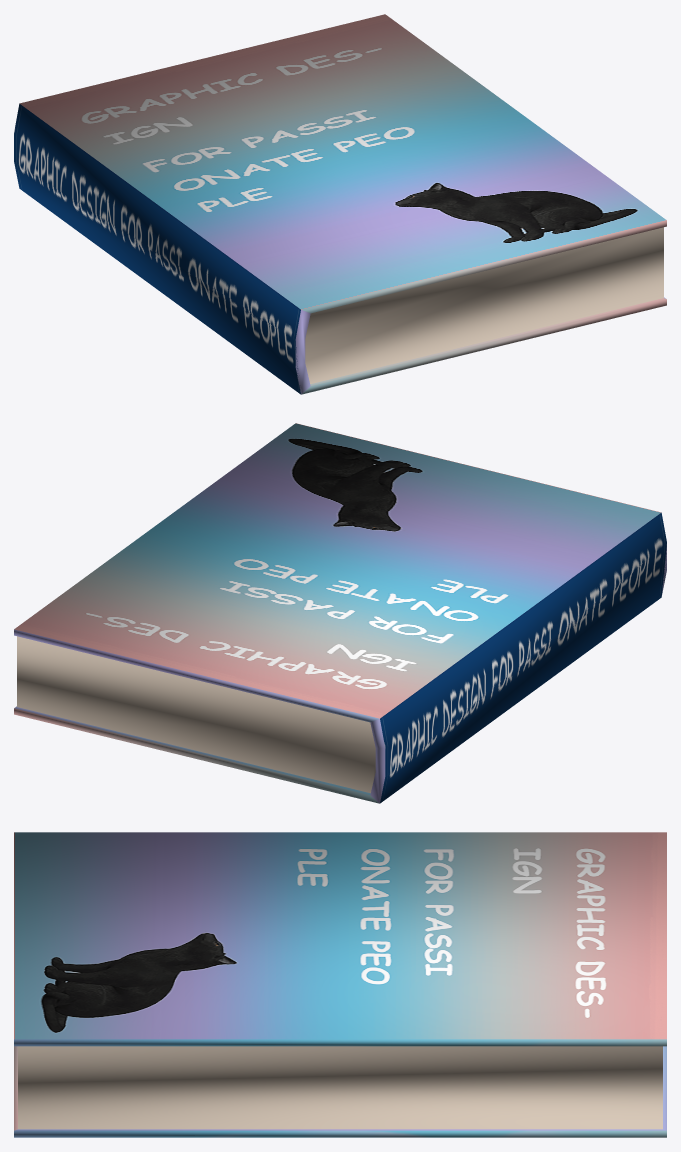
File: Book2cat.fbx
3 views of the same model, one above another, from view 1: azimuth 30°, elevation 25°; view 2: azimuth 150°, elevation 25°; view 3: azimuth 270°, elevation 25° (orthographic). The views are drawn at different scales.
Visible parts, largest first — view 1: Bookcat; view 2: Bookcat; view 3: Bookcat.
Part boxes in pixels (x1,y1,x2,y2): Bookcat: [14, 14, 666, 394]; Bookcat: [14, 423, 666, 803]; Bookcat: [14, 832, 666, 1137].
Size of the model in its own units: 18.27 by 4 by 24.
2 materials, 1 textured.
